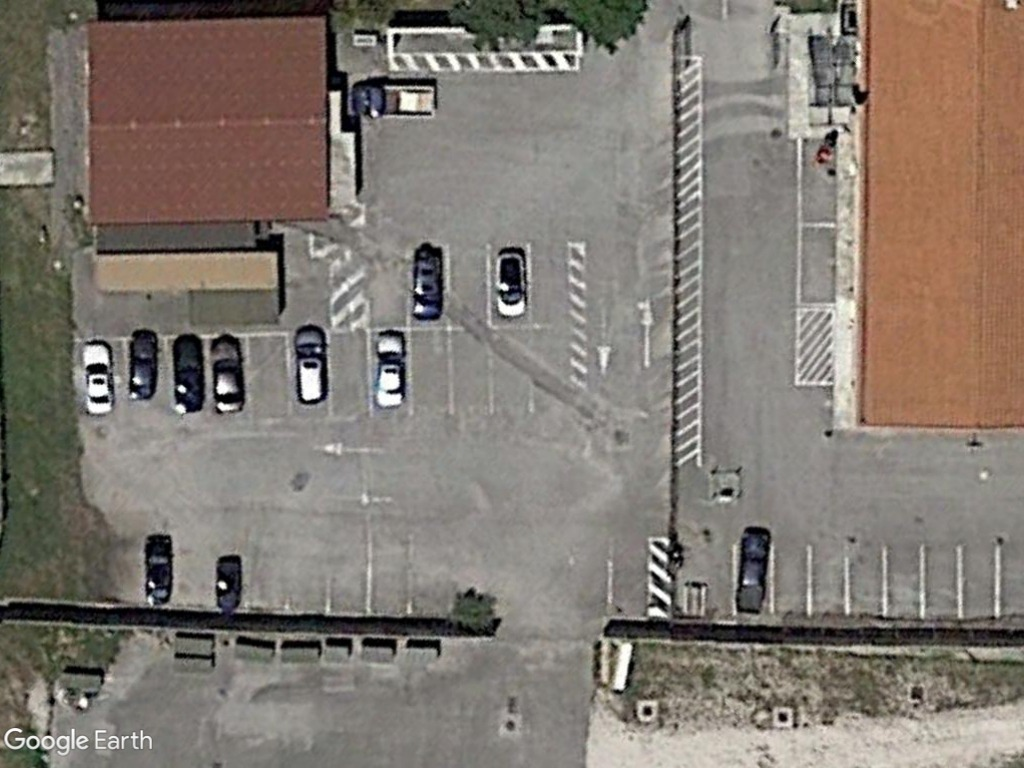car: (288, 324, 335, 408), (166, 333, 210, 416), (207, 333, 248, 418), (76, 337, 119, 418), (370, 325, 410, 412), (493, 246, 533, 320), (126, 328, 164, 403)
other: (732, 524, 775, 616), (408, 246, 449, 326)
truck: (349, 78, 442, 122)
